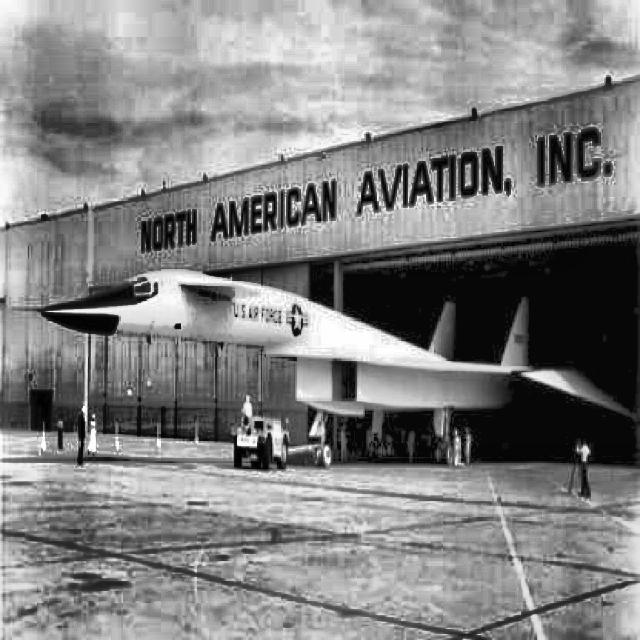XB70: (10, 268, 638, 469)
